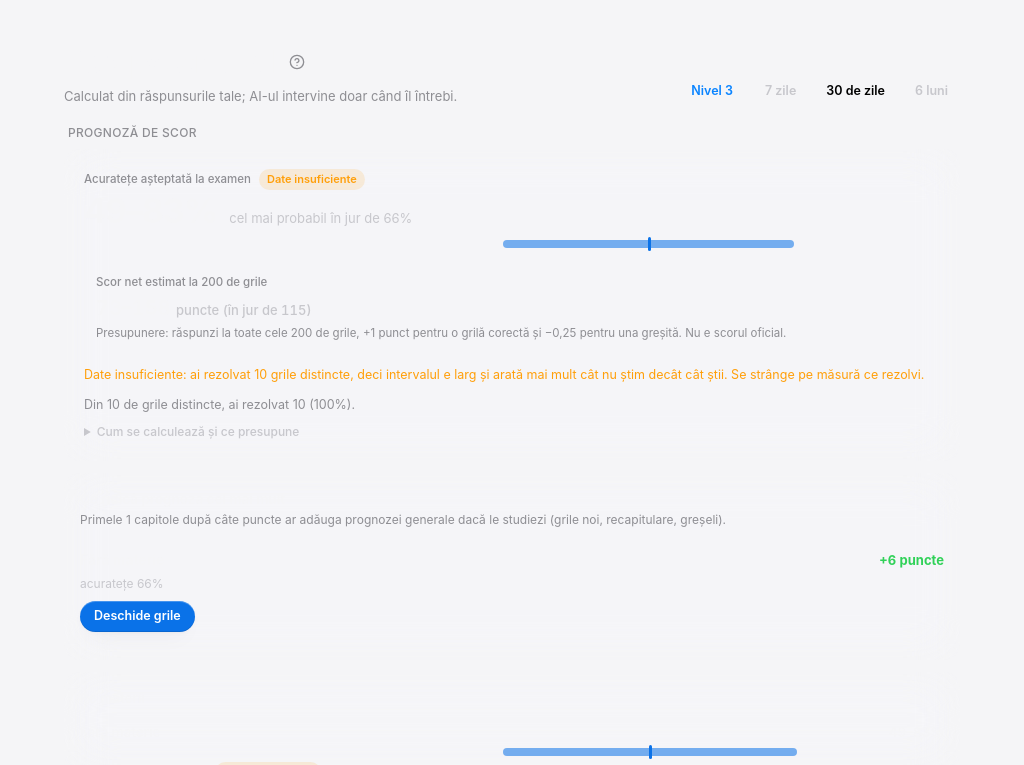
Test case: Perspective AI › analysis period › recomputes solved questions for 7 days, 30 days and 6 months
Click the radio button labelled "7 zile". click: click(781, 91)
box: [753,76,808,106]
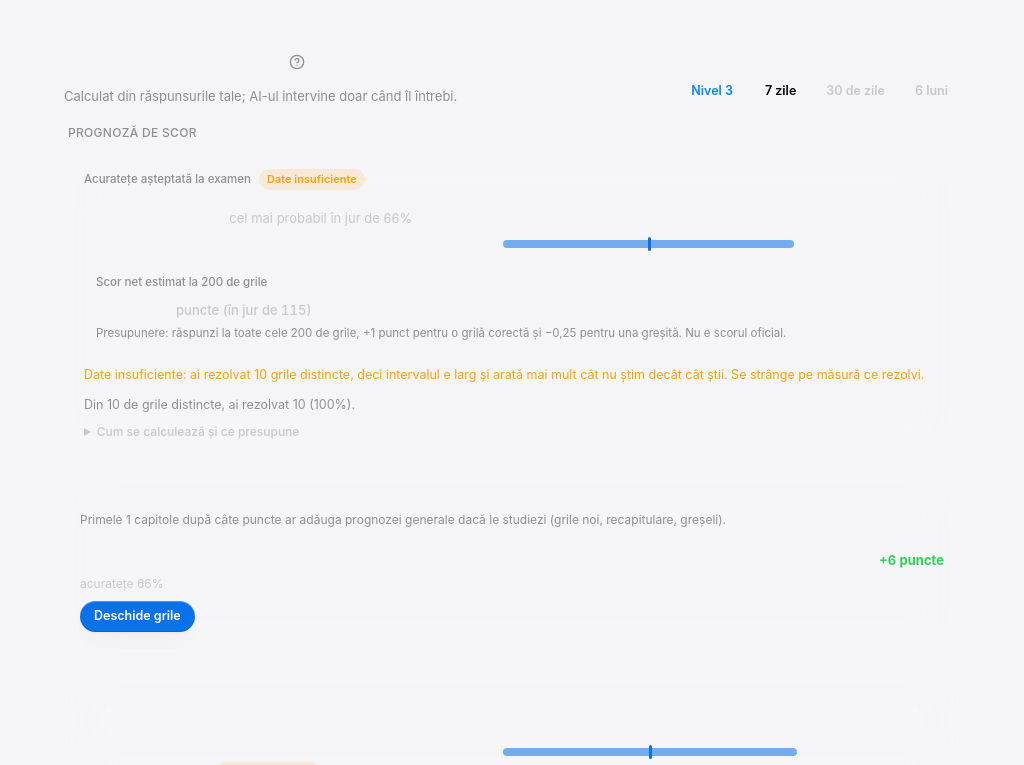
Click the radio button labelled "6 luni". click: click(932, 91)
box: [903,76,960,106]
(page scrolled)
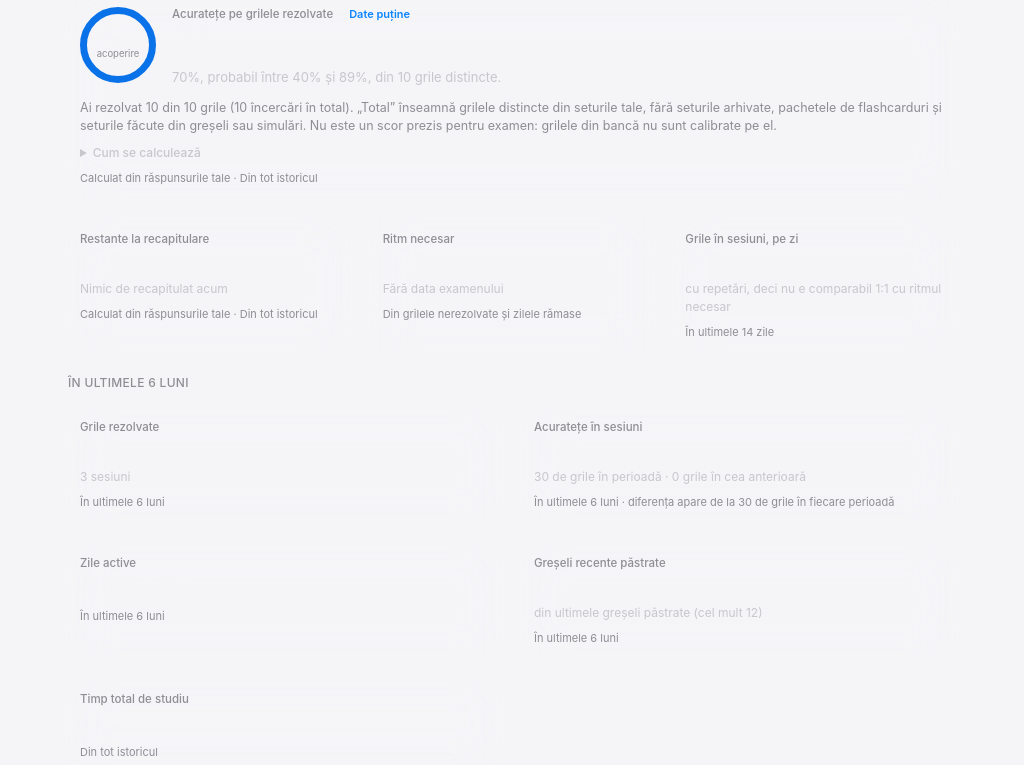
Expected: the heading "În ultimele 6 luni" is shown, [68,376,189,390]
